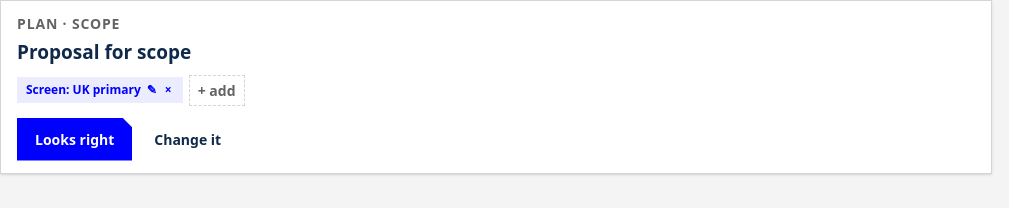
PartCard › labels the chip-edit commit Save, not Stage
Expected: the text "Screen: UK primary" is shown, x1=26 y1=81 x2=141 y2=98
Click the button named "Edit Screen: UK primary" at [152, 90], box x1=145 y1=82 x2=159 y2=98
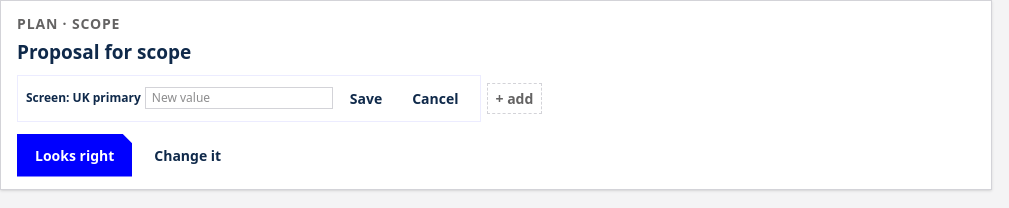
Expected: the button "Save" is shown, x1=337 y1=80 x2=395 y2=116
